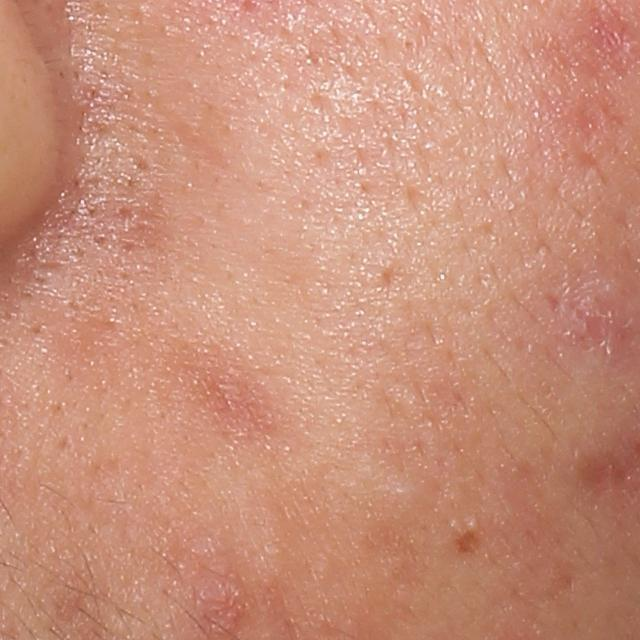atrophic_scar: (539, 291, 562, 316)
comedo: (468, 517, 480, 531)
